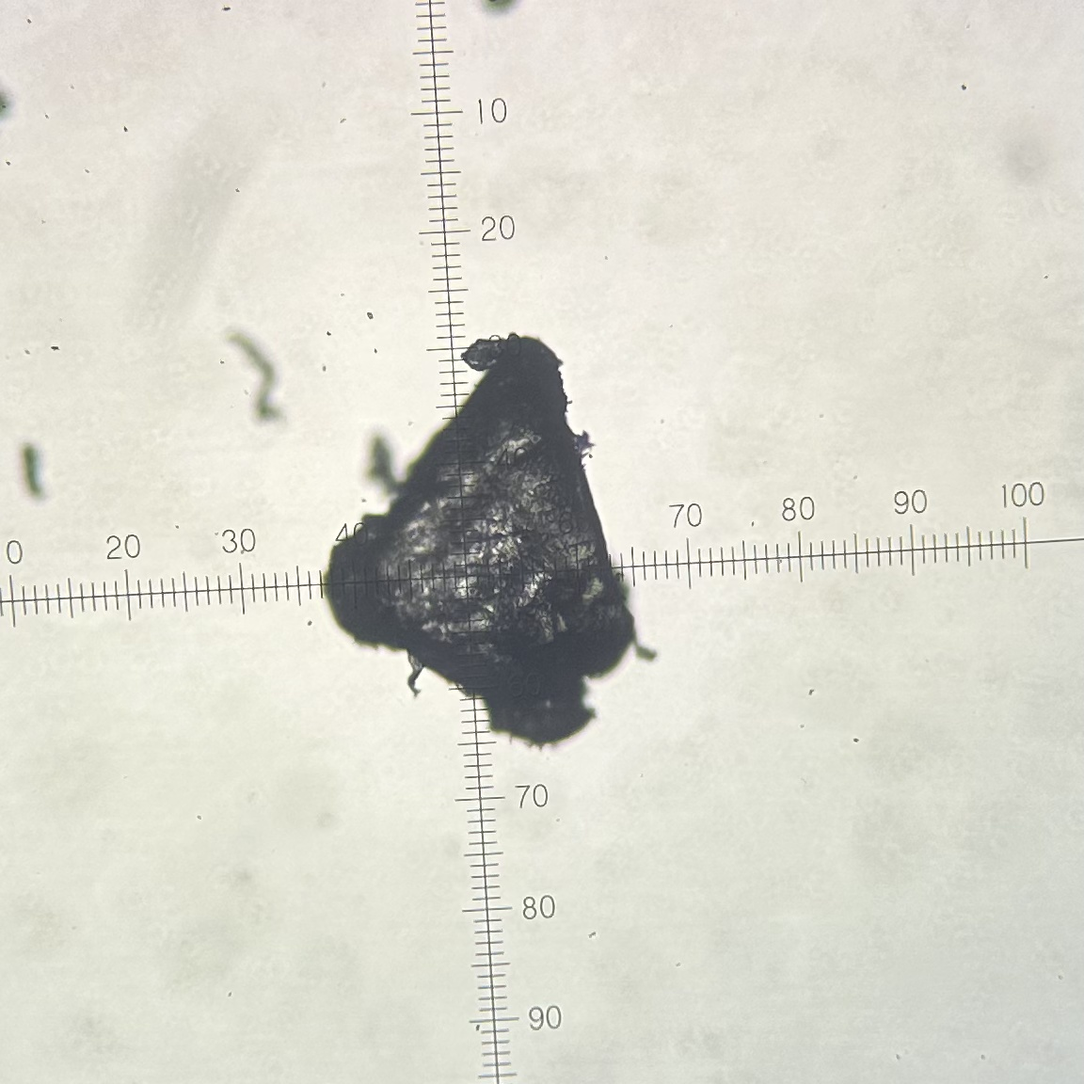microplastic: (320, 328, 662, 754), (222, 324, 292, 427), (19, 438, 56, 504), (472, 1, 524, 20), (1, 88, 14, 122)
